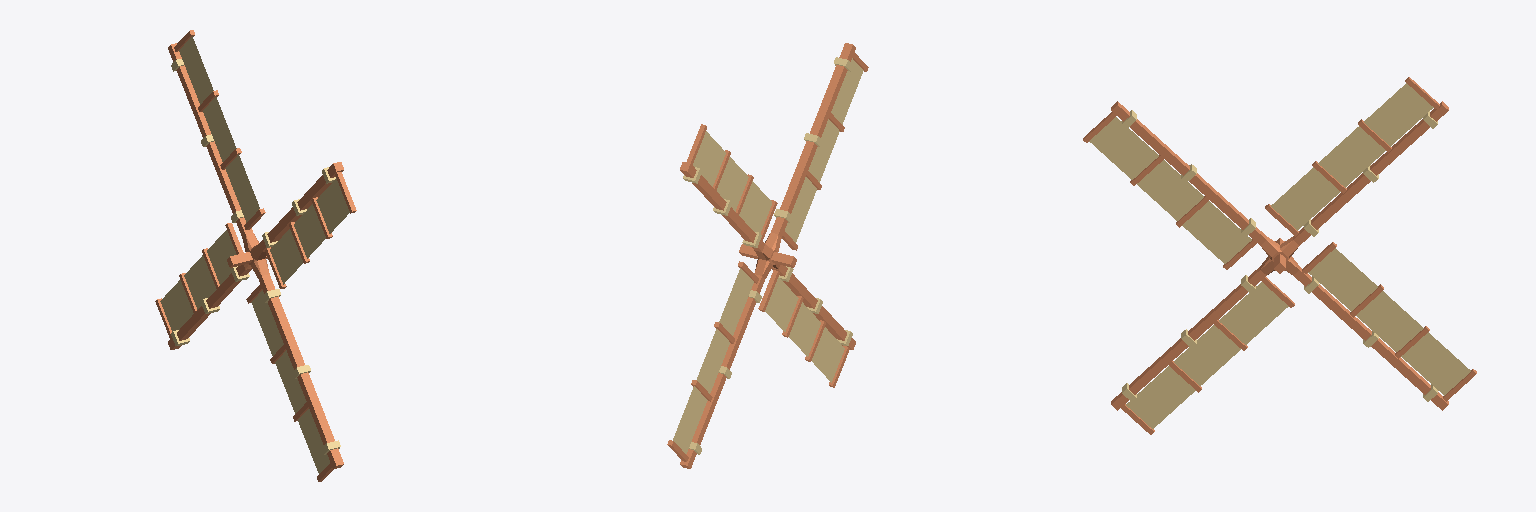
The model's file is windmill.obj.
3 renders of one model, left to right at view 1: azimuth 30°, elevation 25°; view 2: azimuth 150°, elevation 25°; view 3: azimuth 270°, elevation 25°, orthographic.
Visible parts, largest first — view 1: windmill; view 2: windmill; view 3: windmill.
Part boxes in pixels (left/top/right/bottom): windmill: left=155, top=30, right=356, bottom=481; windmill: left=667, top=43, right=868, bottom=468; windmill: left=1083, top=77, right=1476, bottom=434.
Bounding box in the file's own units: 0.471 × 3.07 × 3.07.